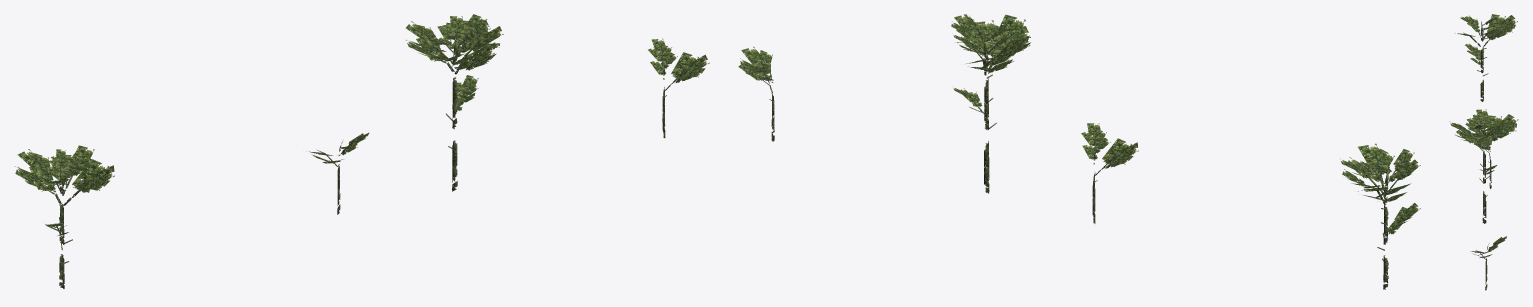
Rendered from Pine1.FBX.
The picture shows the model from 3 angles, left to right: view 1: azimuth 30°, elevation 25°; view 2: azimuth 150°, elevation 25°; view 3: azimuth 270°, elevation 25°; orthographic projection. The views are drawn at different scales.
Visible parts, largest first — view 1: Igolki, Pine1; view 2: Igolki, Pine1; view 3: Igolki, Pine1.
Boxes of the visible parts, x1,y1,x2,y2 form: Igolki: (15,14,709,235); Pine1: (31,23,696,288); Igolki: (738,14,1420,234); Pine1: (751,22,1411,289); Igolki: (1449,14,1518,258); Pine1: (1458,18,1508,290).
Size of the model in its own units: 6295 by 1525 by 869.
